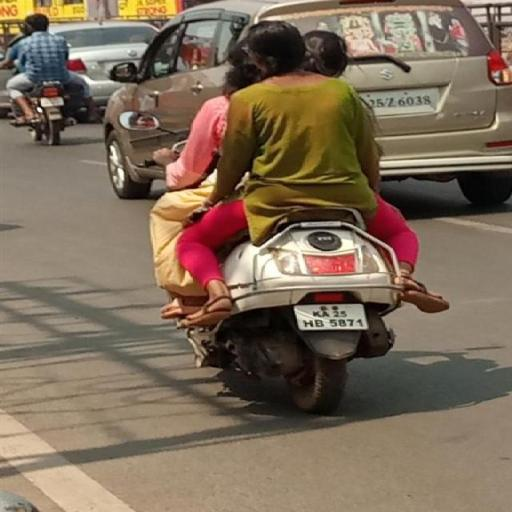tripple riding: (144, 16, 423, 240)
